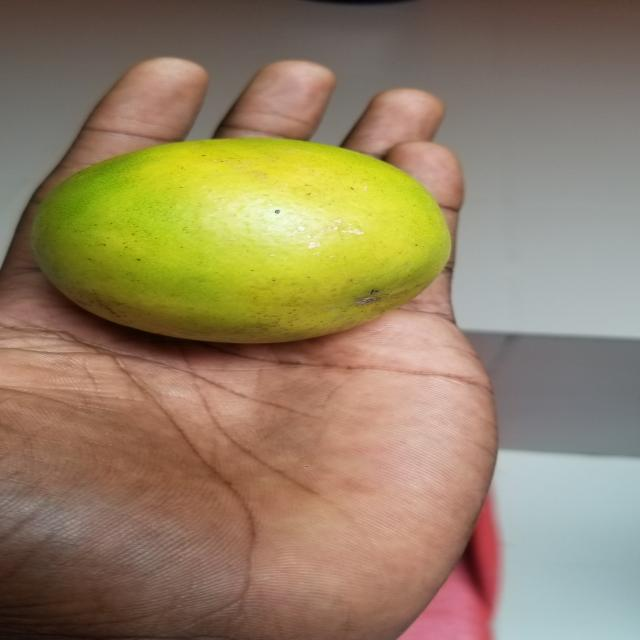Ripe orange: (26, 126, 470, 344)
